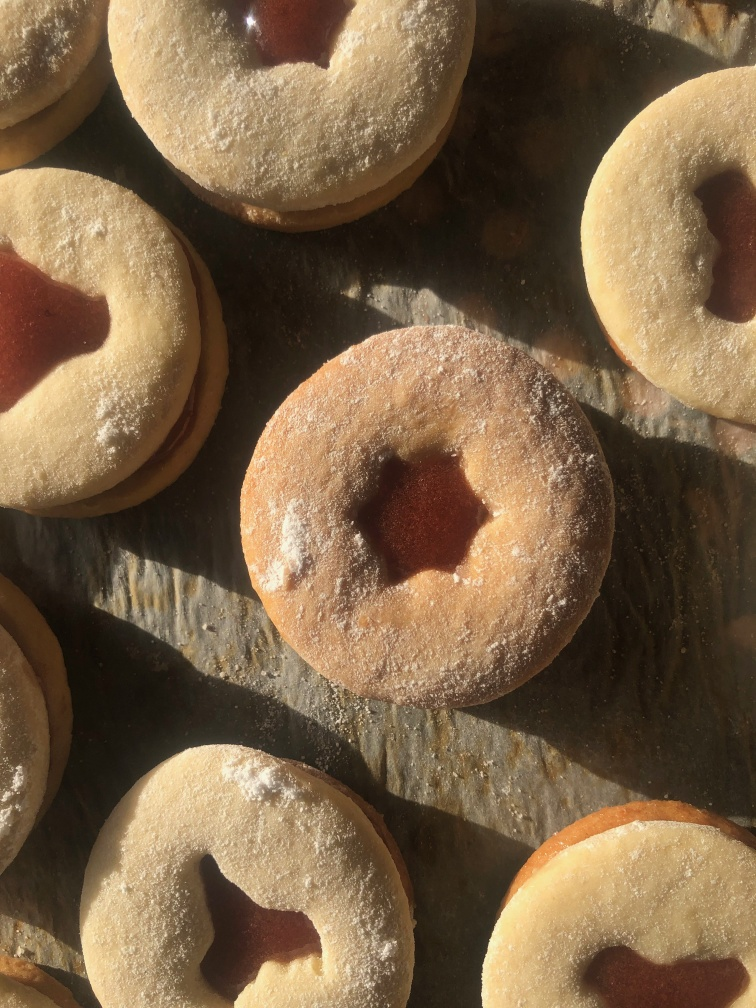christmas shortbread with jam: (238, 324, 602, 705), (76, 741, 415, 1008), (107, 1, 478, 223), (5, 161, 226, 504), (582, 57, 756, 421), (484, 792, 756, 1008)
